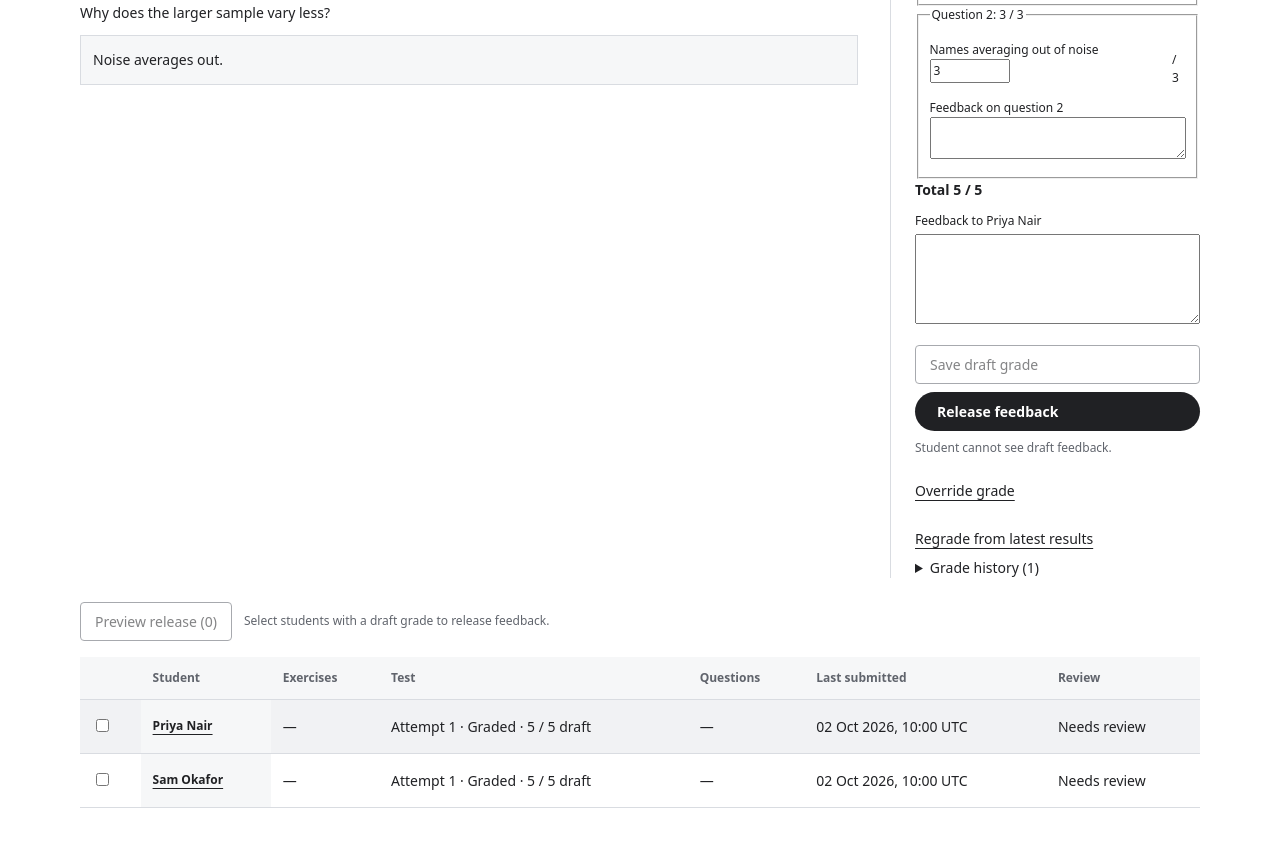
Test: grading workspace › A17 Release feedback names the recipient and attempt first and releases exactly the previewed grade
(page scrolled)
What coordinates should you click on to do the following:
click the button "Release feedback"
I would click on:
 (1058, 411)
Its box is [915,392,1200,431].
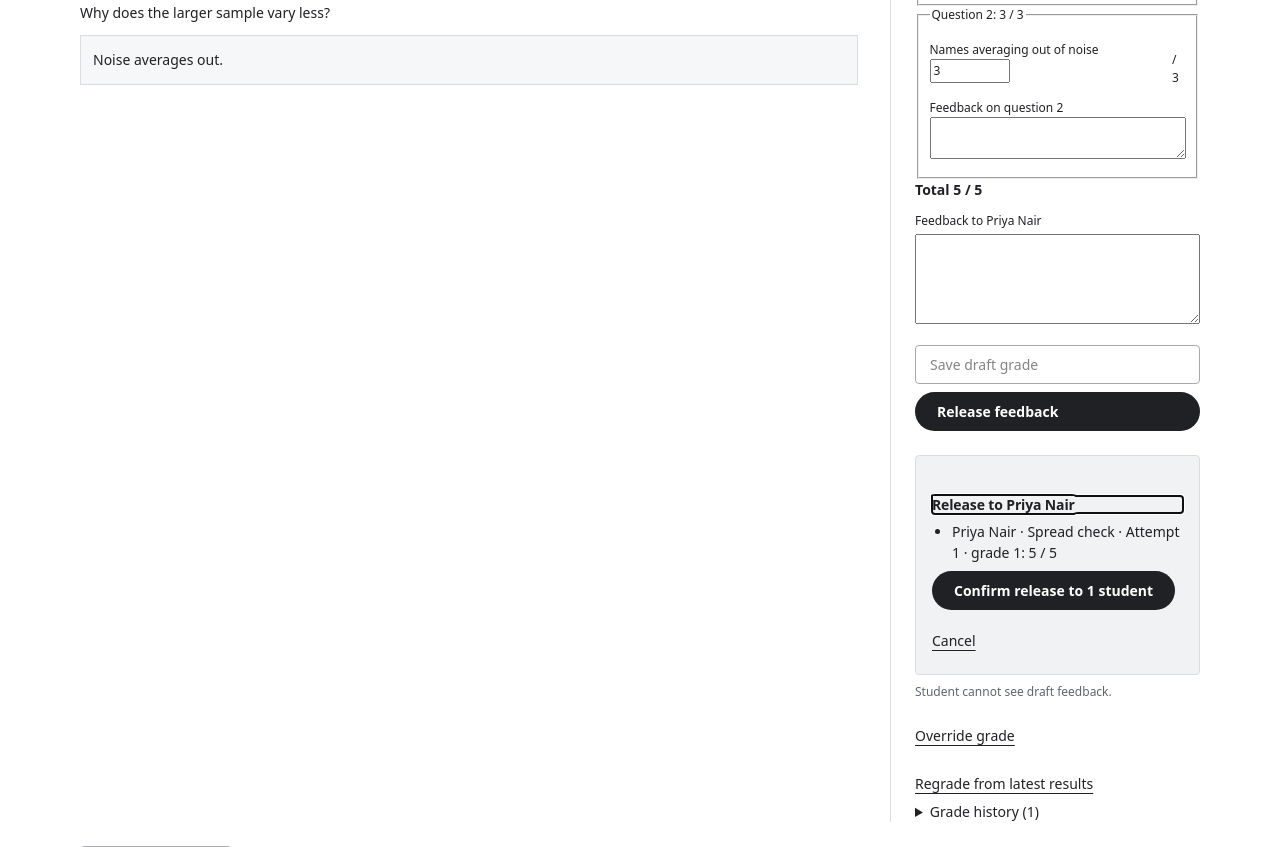
Now the element named "Release preview" shows "Release to Priya Nair", box [932,495,1075,514]
Now the element named "Release preview" shows "Spread check · Attempt 1 · grade 1: 5 / 5", box [915,455,1200,675]
What coordinates should you click on to do the following:
click the button "Confirm release to 1 student"
I would click on:
 (1054, 591)
Its box is [932,571,1175,610].
(page scrolled)
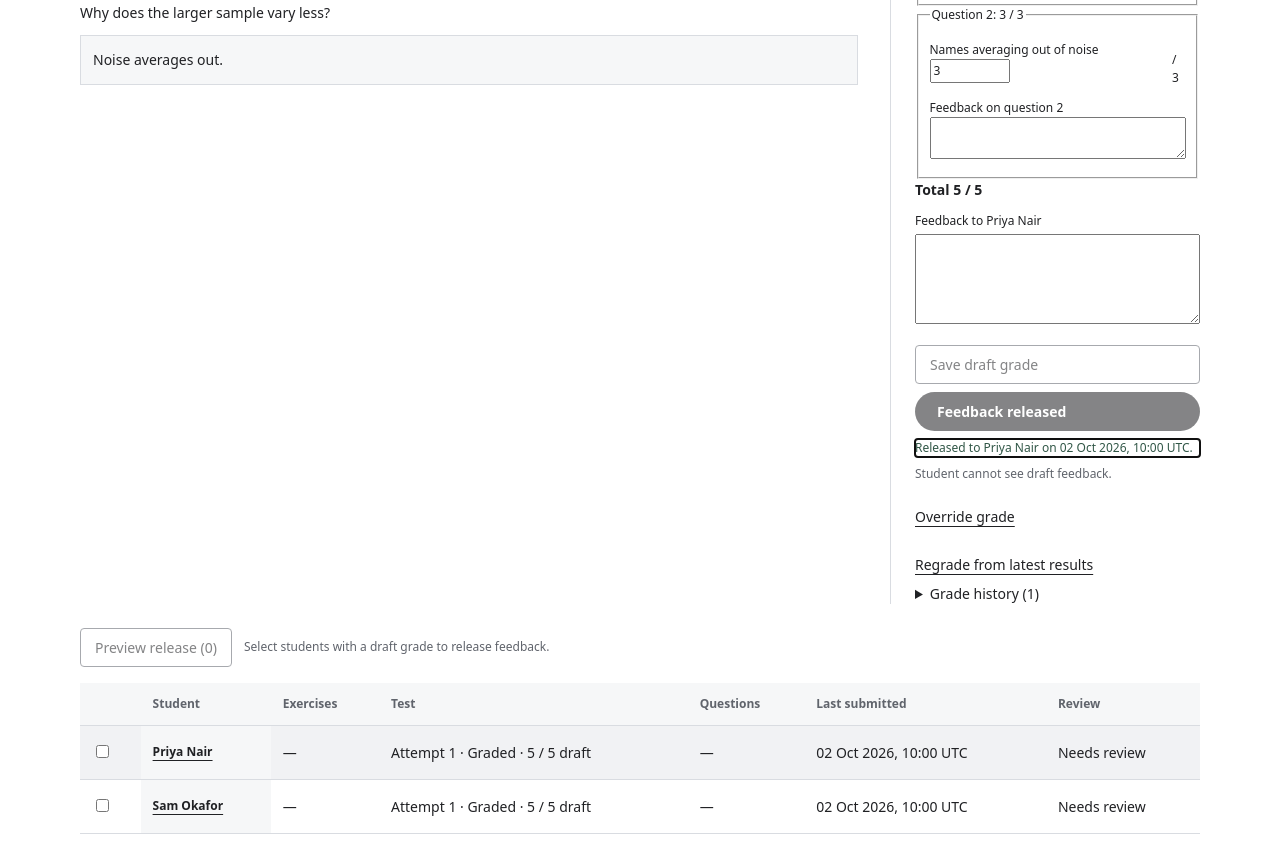
Now the text "Released to Priya Nair on 02 Oct 2026, 10:00 UTC." is shown, box [915,439,1200,457]
Now the button "Feedback released" is disabled, box [915,392,1200,431]
